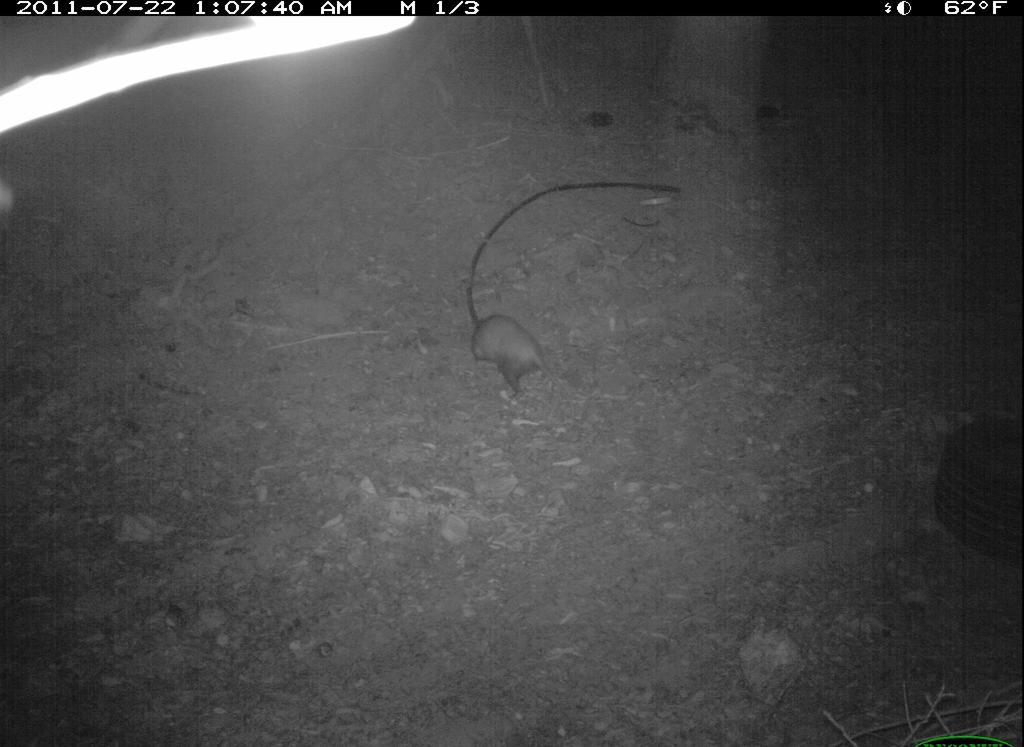opossum: (468, 309, 582, 424)
